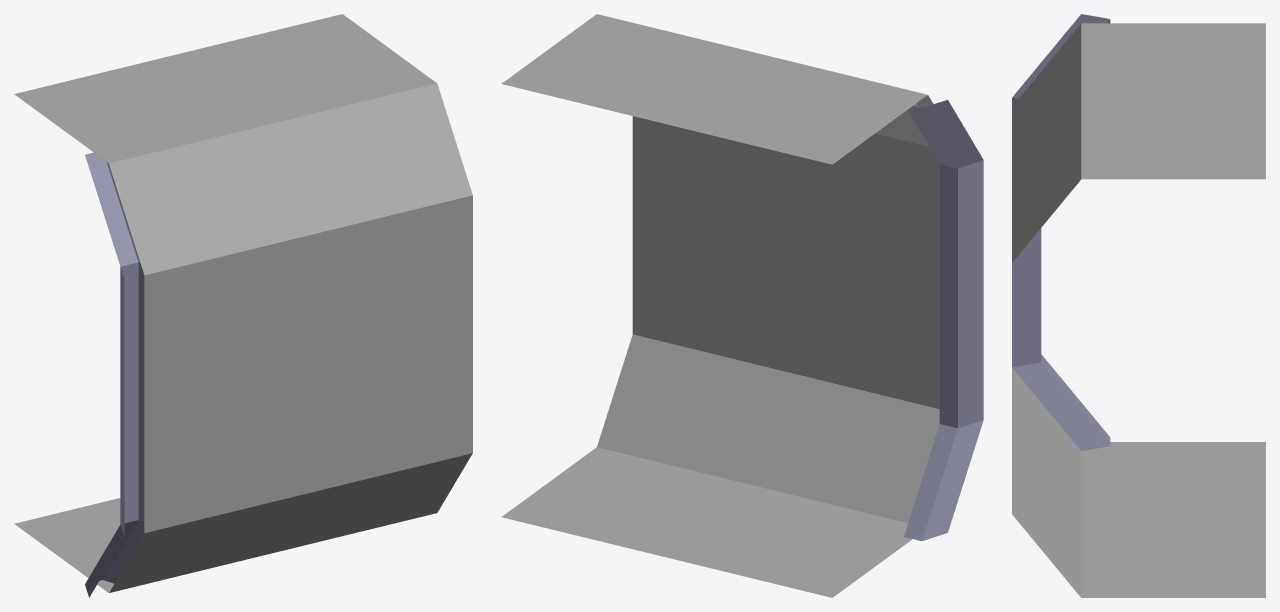
File: SS_Tile_Straight_v02.fbx
3 renders of one model, left to right at view 1: azimuth 30°, elevation 25°; view 2: azimuth 150°, elevation 25°; view 3: azimuth 270°, elevation 25°, orthographic. The views are drawn at different scales.
Parts seen in each view (by area): view 1: pCube11; view 2: pCube11; view 3: pCube11.
Part boxes in pixels (x1,y1,x2,y2): pCube11: (14, 14, 472, 597); pCube11: (501, 14, 983, 597); pCube11: (1012, 14, 1265, 597).
Bounding box in the file's own units: 2.12 × 2.5 × 1.38.
